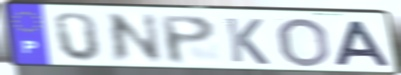0: (53, 11, 103, 65)
A: (333, 19, 394, 68)
K: (223, 16, 272, 66)
N: (106, 12, 166, 65)
O: (277, 16, 333, 69)
P: (157, 14, 219, 66)
